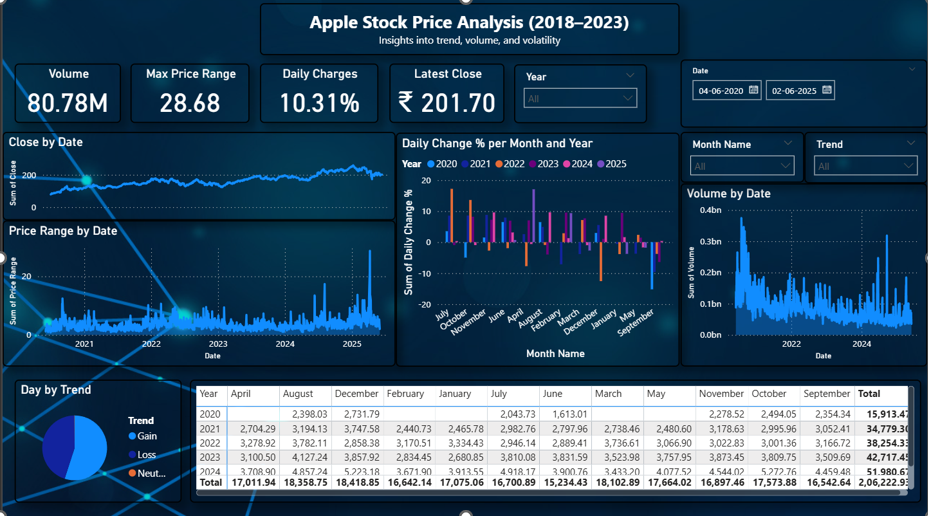

What the dashboard file says about the page in this screenshot:
{"tool":"powerbi","page":{"name":" STOCK PERFORMANCE OVERVIEW","canvas":[1280,720],"ordinal":0},"visuals":[{"type":"card","title":"Latest Close","fields":{"Values":["AppleStockData.Latest Close"]},"box":[535.4,92.4,159.2,82.4],"z":0},{"type":"card","title":"Volume","fields":{"Values":["AppleStockData.Avg Volume"]},"box":[16.7,92.4,146.9,82.4],"z":1000},{"type":"card","title":"Max Price Range","fields":{"Values":["AppleStockData.Max Price Range"]},"box":[177,92.4,164.8,82.4],"z":2000},{"type":"card","title":"Daily Charges ","fields":{"Values":["AppleStockData.Avg Daily Change %"]},"box":[356.2,92.4,163.6,82.4],"z":3000},{"type":"lineChart","title":"Close by Date","fields":{"Category":["AppleStockData.Date"],"Y":["Sum(AppleStockData.Close)"]},"box":[0,187,544.3,122.4],"z":4000},{"type":"areaChart","title":"Price Range by Date","fields":{"Y":["Sum(AppleStockData.Price Range)"],"Category":["AppleStockData.Date"]},"box":[0,309.5,544.3,202.6],"z":5000},{"type":"stackedAreaChart","title":"Volume by Date","fields":{"Category":["AppleStockData.Date"],"Y":["Sum(AppleStockData.Volume)"]},"box":[938.4,258.3,341.7,253.8],"z":6000},{"type":"clusteredColumnChart","title":" Daily Change % per Month and Year","fields":{"Category":["AppleStockData.Month Name"],"Y":["Sum(AppleStockData.Daily Change %)"],"Series":["AppleStockData.Year"]},"box":[544.3,188.1,393,323.9],"z":7000},{"type":"pieChart","title":"Day by Trend","fields":{"Category":["AppleStockData.Trend"],"Y":["Sum(AppleStockData.Month)"]},"box":[16.7,529.9,231.5,170.3],"z":8000},{"type":"pivotTable","fields":{"Rows":["AppleStockData.Year"],"Columns":["AppleStockData.Month Name"],"Values":["Sum(AppleStockData.Close)"]},"box":[259.4,529.9,1011.9,170.3],"z":10000},{"type":"slicer","fields":{"Values":["AppleStockData.Date"]},"box":[938.4,86.8,341.7,94.6],"z":11000},{"type":"slicer","fields":{"Values":["AppleStockData.Year"]},"box":[708,93.5,183.7,81.3],"z":12000},{"type":"slicer","fields":{"Values":["AppleStockData.Month Name"]},"box":[938.4,187,171.4,70.1],"z":13000},{"type":"slicer","fields":{"Values":["AppleStockData.Trend"]},"box":[1109.8,187,170.3,71.2],"z":14000},{"type":"textbox","box":[356.2,8.9,581.1,72.4],"z":15000}]}

Visuals, with their boxes in screenshot pixels (x1, y1, x2, y2), scaled from the page's 1280x720 canvas onto the 928x516 screenshot:
"Latest Close" card: region(388, 66, 504, 125)
"Volume" card: region(12, 66, 119, 125)
"Max Price Range" card: region(128, 66, 248, 125)
"Daily Charges " card: region(258, 66, 377, 125)
"Close by Date" lineChart: region(0, 134, 395, 222)
"Price Range by Date" areaChart: region(0, 222, 395, 367)
"Volume by Date" stackedAreaChart: region(680, 185, 927, 367)
" Daily Change % per Month and Year" clusteredColumnChart: region(395, 135, 680, 367)
"Day by Trend" pieChart: region(12, 380, 180, 502)
pivotTable - AppleStockData.Year x AppleStockData.Month Name: region(188, 380, 922, 502)
slicer - AppleStockData.Date: region(680, 62, 927, 130)
slicer - AppleStockData.Year: region(513, 67, 646, 125)
slicer - AppleStockData.Month Name: region(680, 134, 805, 184)
slicer - AppleStockData.Trend: region(805, 134, 927, 185)
textbox: region(258, 6, 680, 58)
